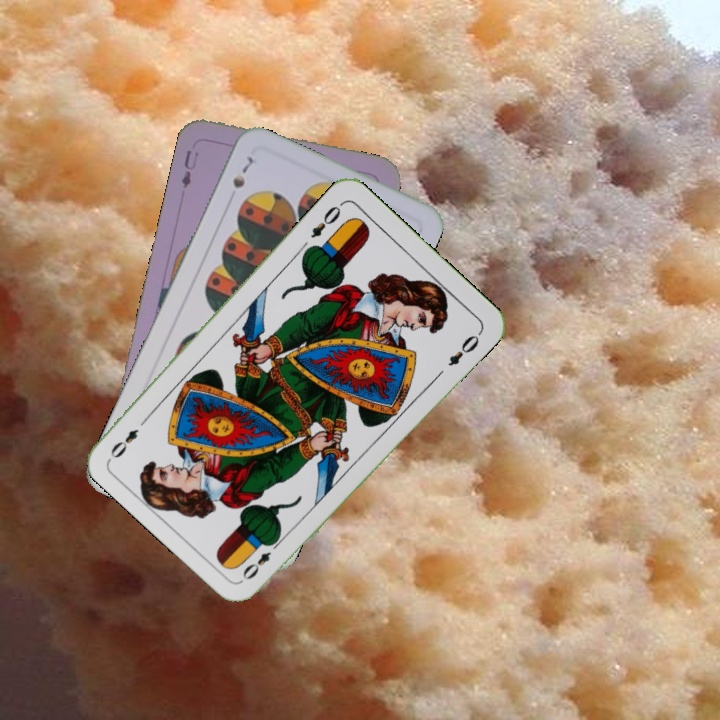EO: (238, 535, 284, 583), (306, 198, 346, 241)
EU: (177, 146, 202, 191)
S7: (228, 149, 260, 191)
